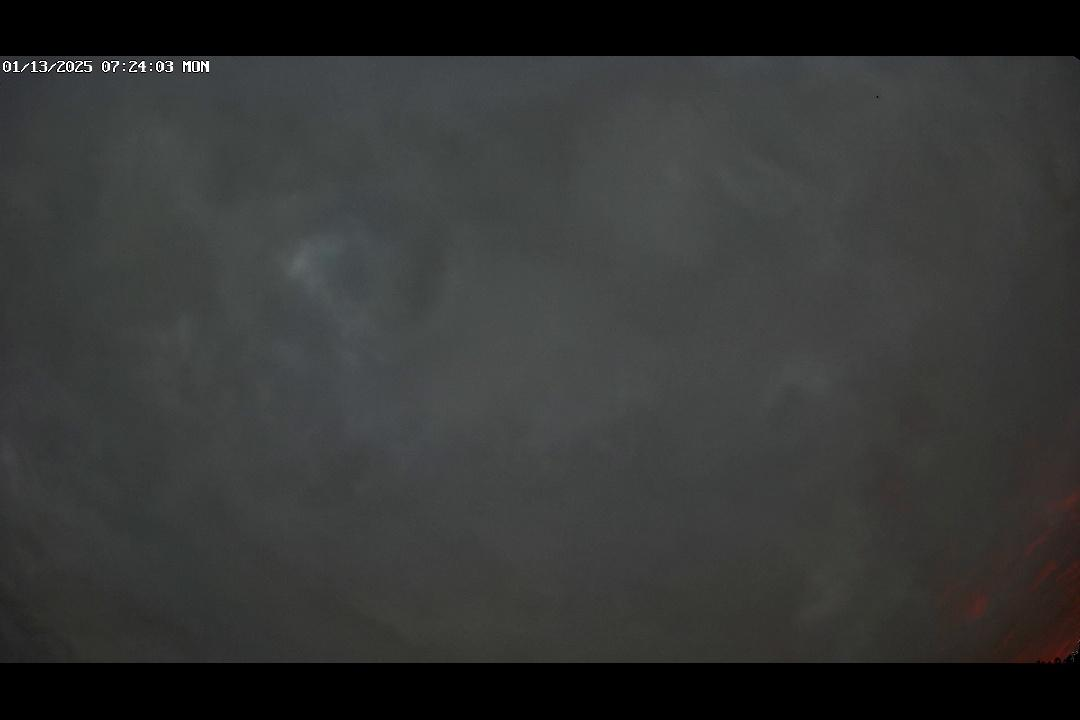WildLife: (870, 91, 887, 104)
